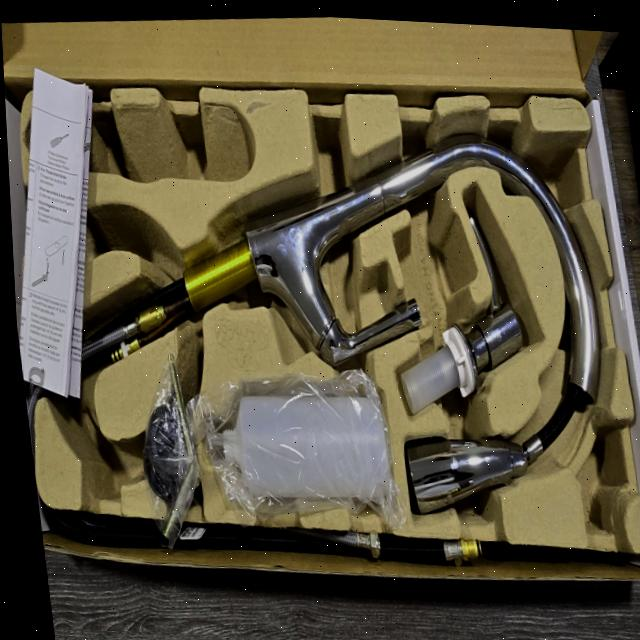1o: (23, 132, 599, 517)
2: (400, 208, 523, 412)
3: (201, 391, 397, 513)
4m: (21, 103, 254, 180)
5m: (35, 194, 95, 279)
6m: (63, 408, 135, 504)
7: (141, 353, 204, 548)
8: (19, 65, 93, 397)
